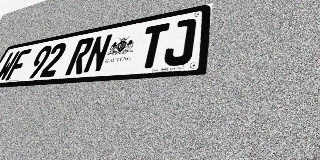2: (39, 42, 68, 78)
9: (26, 44, 54, 79)
F: (5, 49, 32, 81)
J: (162, 18, 197, 67)
N: (82, 33, 113, 74)
R: (65, 37, 95, 75)
T: (136, 23, 170, 69)
W: (0, 51, 20, 82)
